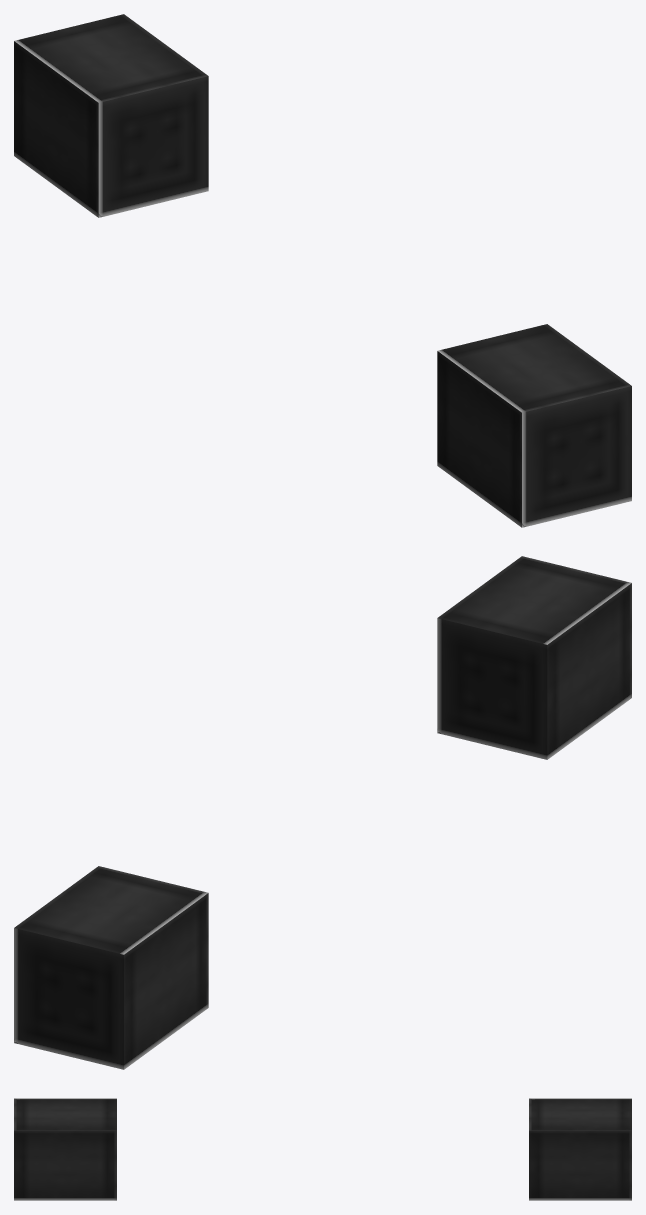
Rendered from steam_turbine_rotor.obj.
The picture shows the model from 3 angles, top to bottom: view 1: azimuth 30°, elevation 25°; view 2: azimuth 150°, elevation 25°; view 3: azimuth 270°, elevation 25°; orthographic projection. The views are drawn at different scales.
Parts seen in each view (by area): view 1: rotor; view 2: rotor; view 3: rotor.
Part boxes in pixels (left/top/right/bottom): rotor: left=14, top=14, right=631, bottom=527; rotor: left=14, top=556, right=631, bottom=1069; rotor: left=14, top=1098, right=631, bottom=1200.
Bounding box in the file's own units: 0.75 × 0.75 × 6.
